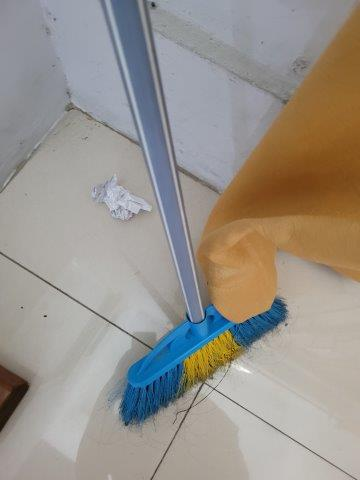kertas: (90, 176, 150, 224)
